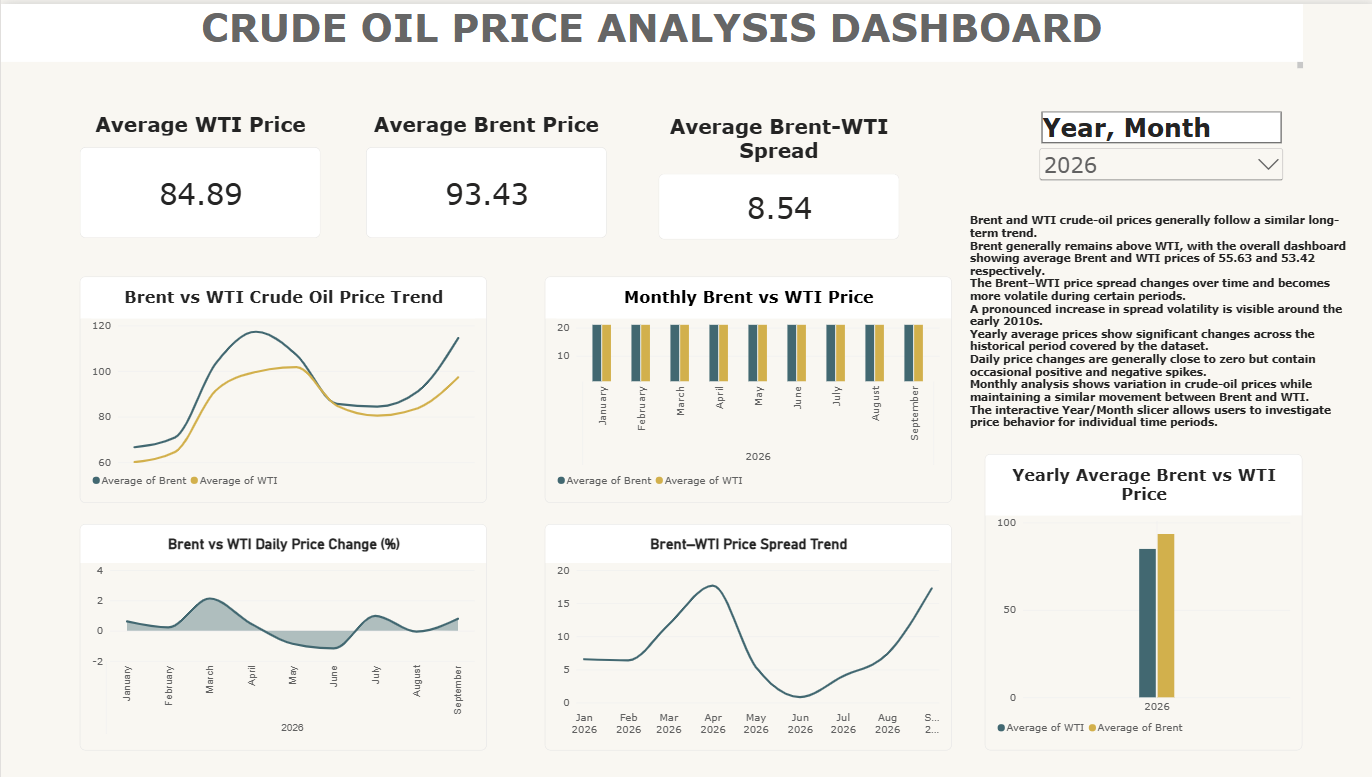

The page's visual inventory and layout, read from the dashboard file:
{"tool":"powerbi","page":{"name":"Page 1","canvas":[1920,1080],"ordinal":0},"visuals":[{"type":"lineChart","title":"Brent vs WTI Crude Oil Price Trend","fields":{"Category":["Sheet1.Date.Variation.Date Hierarchy.Year","Sheet1.Date.Variation.Date Hierarchy.Month"],"Y":["Avg(Sheet1.Brent)","Avg(Sheet1.WTI)"]},"box":[110,380,568,316],"z":0},{"type":"cardVisual","title":"Average WTI Price","fields":{"Data":["Avg(Sheet1.WTI)"]},"box":[110,150,336.7,176.7],"z":1000},{"type":"slicer","fields":{"Values":["Sheet1.Date.Variation.Date Hierarchy.Year","Sheet1.Date.Variation.Date Hierarchy.Month"]},"box":[1445,150,350,102.5],"z":2000},{"type":"lineChart","title":"Brent–WTI Price Spread Trend","fields":{"Category":["Sheet1.Date.Variation.Date Hierarchy.Year","Sheet1.Date.Variation.Date Hierarchy.Month"],"Y":["Avg(Sheet1.Spread)"]},"box":[758,726,568,316],"z":3000},{"type":"clusteredColumnChart","title":"Monthly  Brent vs WTI Price","fields":{"Category":["Sheet1.Date.Variation.Date Hierarchy.Year","Sheet1.Date.Variation.Date Hierarchy.Month"],"Y":["Avg(Sheet1.Brent)","Avg(Sheet1.WTI)"]},"box":[758,380,568,316],"z":4000},{"type":"stackedAreaChart","title":"Brent vs WTI Daily Price Change (%)","fields":{"Category":["Sheet1.Date.Variation.Date Hierarchy.Year","Sheet1.Date.Variation.Date Hierarchy.Month"],"Y":["Avg(Sheet1.WTI_Daily_Change_%)"]},"box":[110,726,568,316],"z":5000},{"type":"textbox","title":" CRUDE OIL PRICE ANALYSIS DASHBOARD","box":[0,0,1816.7,90],"z":6000},{"type":"cardVisual","title":"Average Brent Price","fields":{"Data":["Avg(Sheet1.Brent)"]},"box":[510,150,336,176.7],"z":7000},{"type":"cardVisual","title":"Average  Brent-WTI Spread","fields":{"Data":["Avg(Sheet1.Spread)"]},"box":[916.7,153.3,336,176],"z":8000},{"type":"clusteredColumnChart","title":"Yearly Average Brent vs WTI Price","fields":{"Category":["Sheet1.Date.Variation.Date Hierarchy.Year"],"Y":["Avg(Sheet1.WTI)","Avg(Sheet1.Brent)"]},"box":[1372.7,627.9,443.3,413.3],"z":9000},{"type":"textbox","box":[1351.7,293,537.2,312.2],"z":9001}]}

Visuals, with their boxes in screenshot pixels (x1, y1, x2, y2), scaled from the page's 1920x1080 canvas onto the 1372x777 screenshot:
"Brent vs WTI Crude Oil Price Trend" lineChart: bbox=(79, 273, 484, 501)
"Average WTI Price" cardVisual: bbox=(79, 108, 319, 235)
slicer - Sheet1.Date.Variation.Date Hierarchy.Year x Sheet1.Date.Variation.Date Hierarchy.Month: bbox=(1033, 108, 1283, 182)
"Brent–WTI Price Spread Trend" lineChart: bbox=(542, 522, 948, 750)
"Monthly  Brent vs WTI Price" clusteredColumnChart: bbox=(542, 273, 948, 501)
"Brent vs WTI Daily Price Change (%)" stackedAreaChart: bbox=(79, 522, 484, 750)
" CRUDE OIL PRICE ANALYSIS DASHBOARD" textbox: bbox=(0, 0, 1298, 65)
"Average Brent Price" cardVisual: bbox=(364, 108, 605, 235)
"Average  Brent-WTI Spread" cardVisual: bbox=(655, 110, 895, 237)
"Yearly Average Brent vs WTI Price" clusteredColumnChart: bbox=(981, 452, 1298, 749)
textbox: bbox=(966, 211, 1350, 435)
